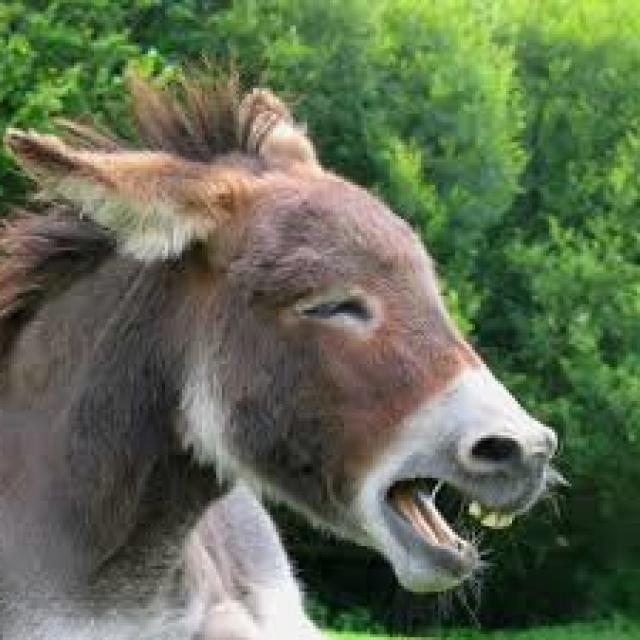donkey: (3, 80, 563, 637)
